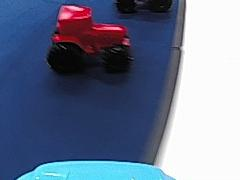Tracktor: (46, 3, 134, 73)
